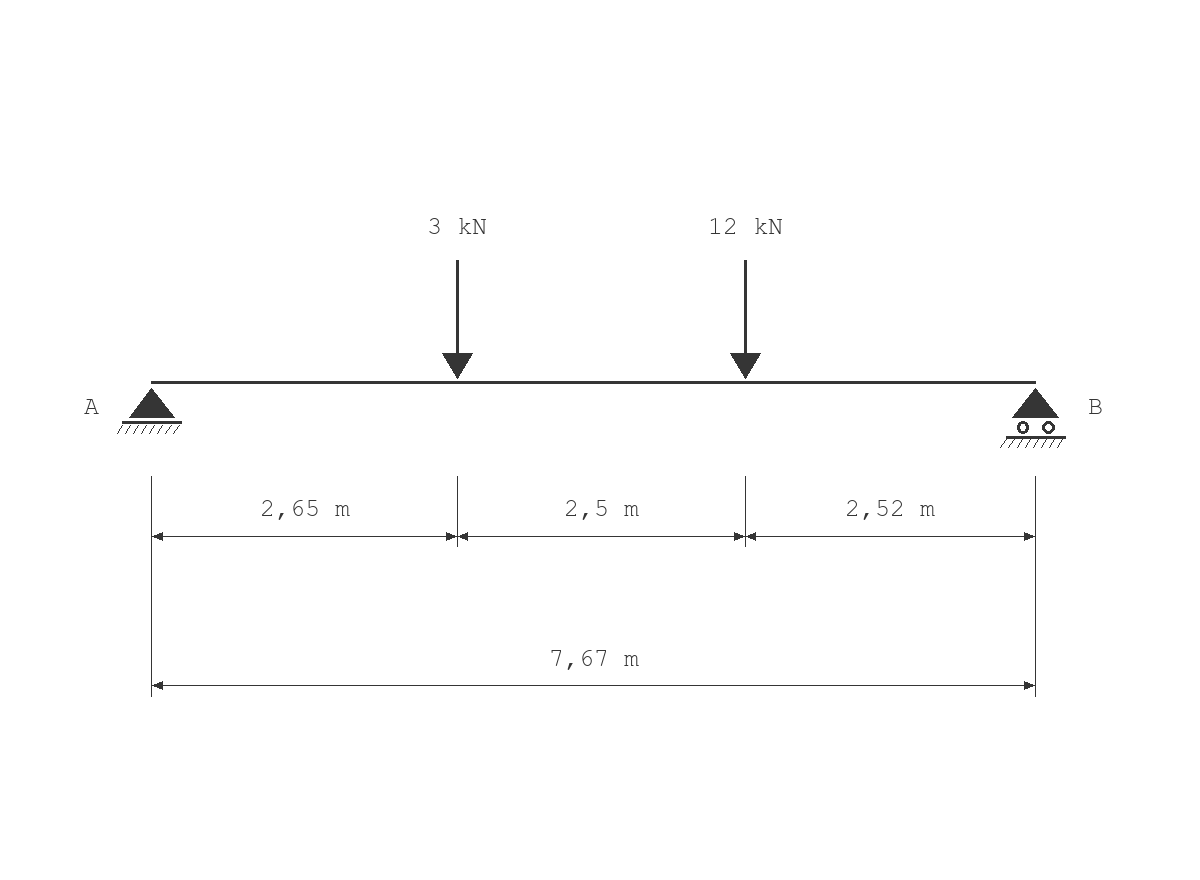pin_support: (117, 388, 182, 434)
point_load: (442, 260, 473, 379), (730, 260, 761, 379)
roller_support: (1000, 388, 1066, 448)
